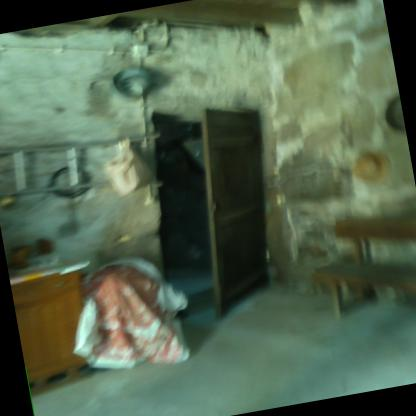semi: (142, 76, 306, 325)
